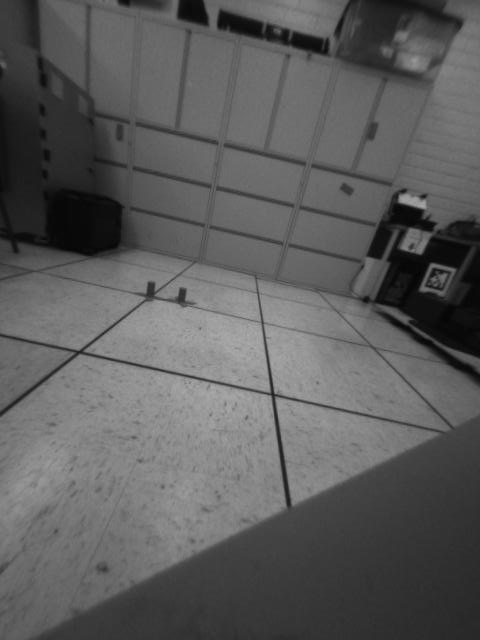X: (167, 284, 199, 312), (136, 280, 166, 305)
